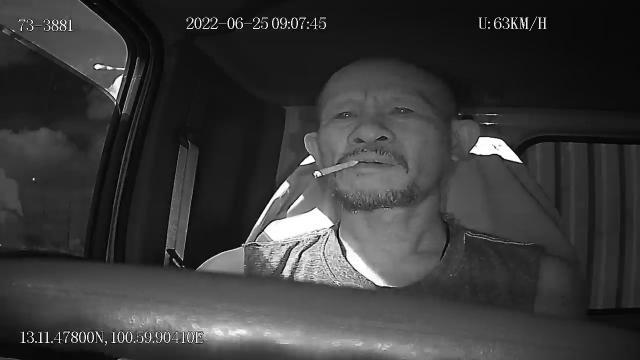SafeDriving: (382, 95, 425, 125), (325, 100, 364, 128)
Smoking: (314, 160, 358, 178)
